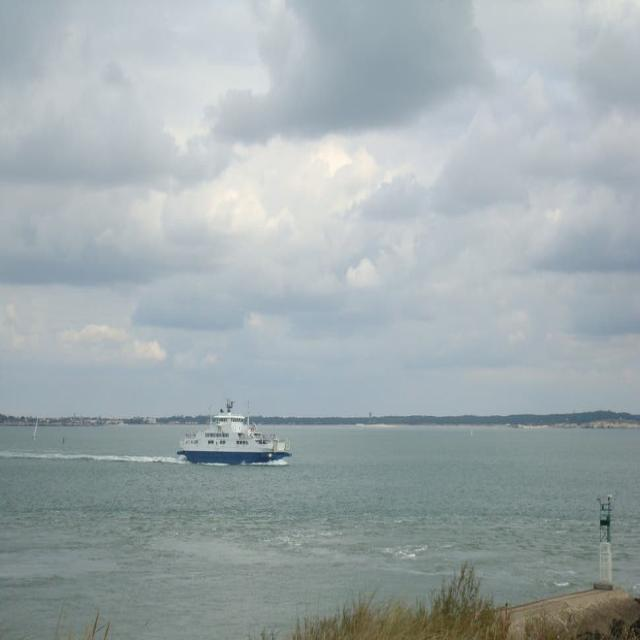fishing boat: (174, 391, 303, 477)
